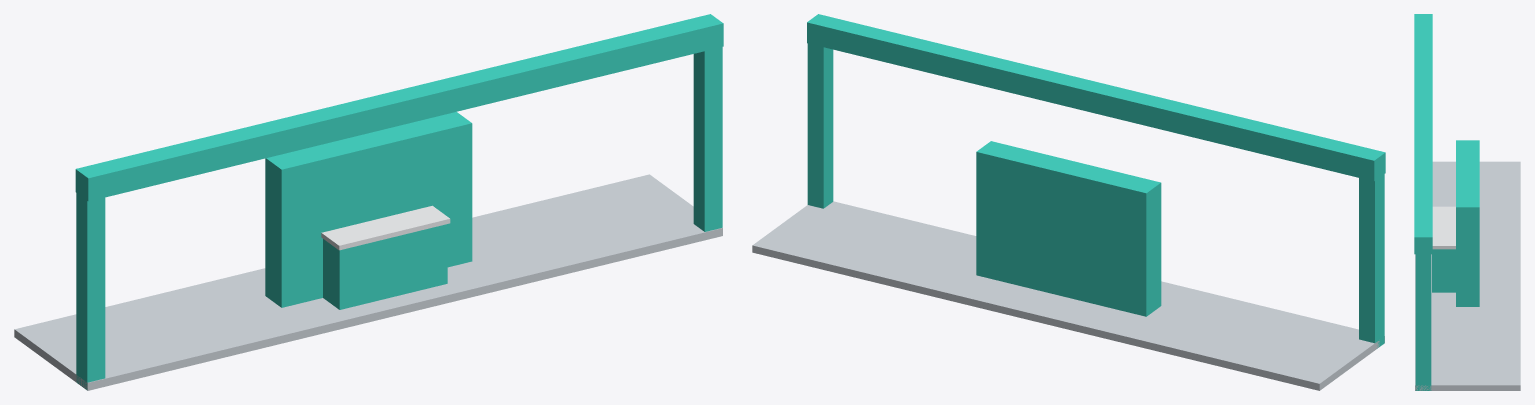
3 renders of one model, left to right at view 1: azimuth 30°, elevation 25°; view 2: azimuth 150°, elevation 25°; view 3: azimuth 270°, elevation 25°, orthographic. The views are drawn at different scales.
Parts seen in each view (by area): view 1: Exhibition Booth Concept; view 2: Exhibition Booth Concept; view 3: Exhibition Booth Concept.
Part boxes in pixels (x1,y1,x2,y2): Exhibition Booth Concept: (14, 14, 723, 390); Exhibition Booth Concept: (752, 14, 1385, 390); Exhibition Booth Concept: (1414, 14, 1520, 390).
Size of the model in its own units: 10 by 3.2 by 2.01.
